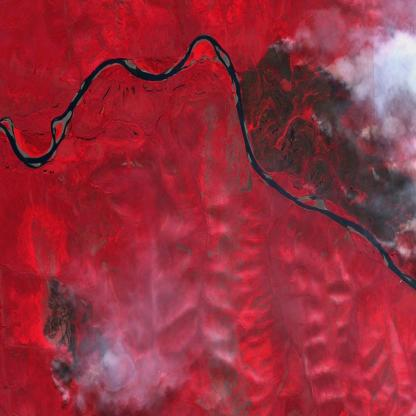fire: (266, 38, 416, 253), (41, 273, 112, 391)
